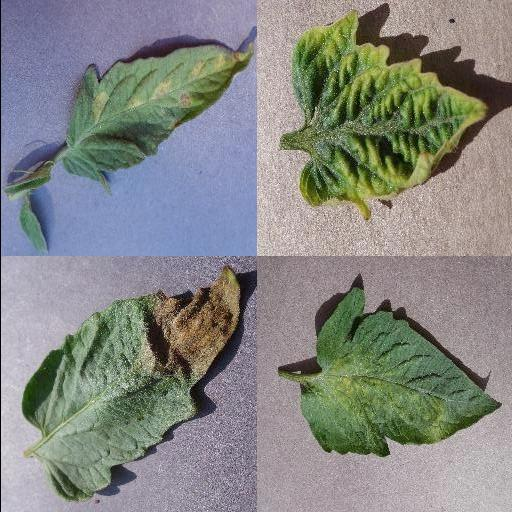Late Blight: (19, 264, 243, 506)
Leaf Mold: (60, 43, 254, 195)
Spider Mites: (297, 287, 503, 456)
Yellow Leaf Curl Virus: (289, 10, 485, 221)
